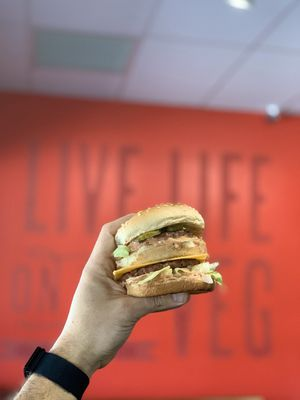soup: (111, 201, 221, 297)
